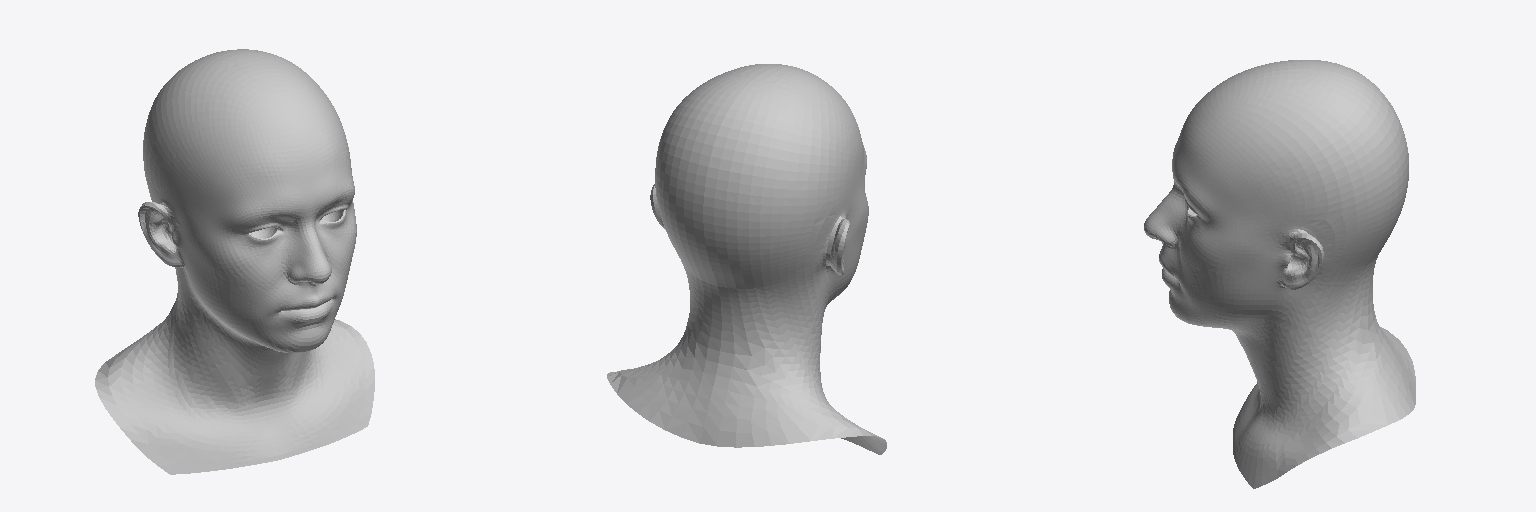
File: hack_w_HIFI3D_UV.obj
3 views of the same model, side by side, from view 1: azimuth 30°, elevation 25°; view 2: azimuth 150°, elevation 25°; view 3: azimuth 270°, elevation 25° (orthographic).
Bounding box in the file's own units: 24.83 × 33.81 × 22.32.